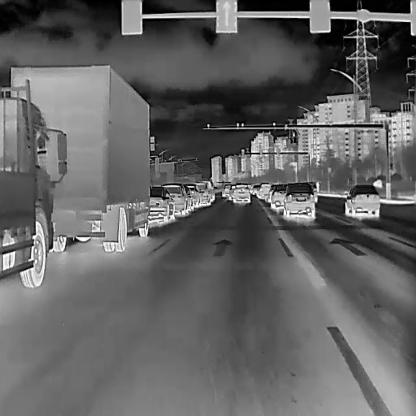car: (343, 182, 380, 219), (282, 180, 315, 218), (148, 184, 174, 224), (160, 182, 186, 216), (269, 182, 290, 210), (233, 181, 250, 203), (196, 180, 210, 206), (186, 182, 201, 206), (201, 178, 214, 203), (258, 181, 271, 199), (222, 182, 232, 196), (227, 183, 235, 200), (252, 182, 260, 194)
truck: (9, 63, 150, 251), (0, 84, 66, 287)
